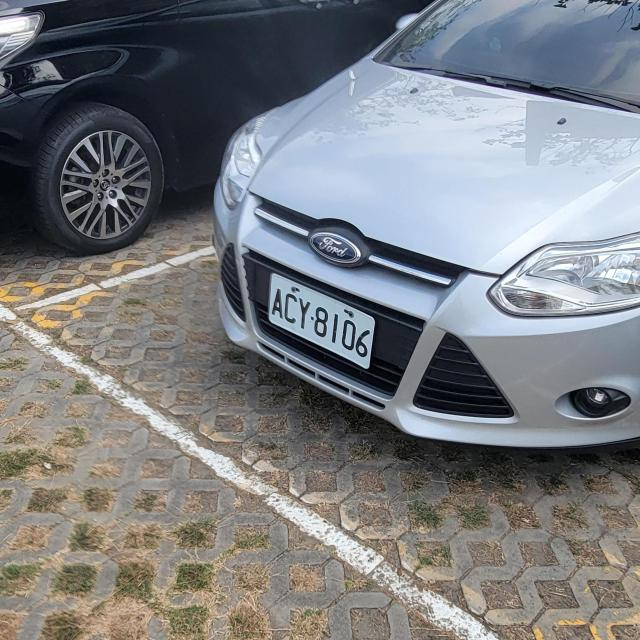W: (264, 274, 377, 370)
